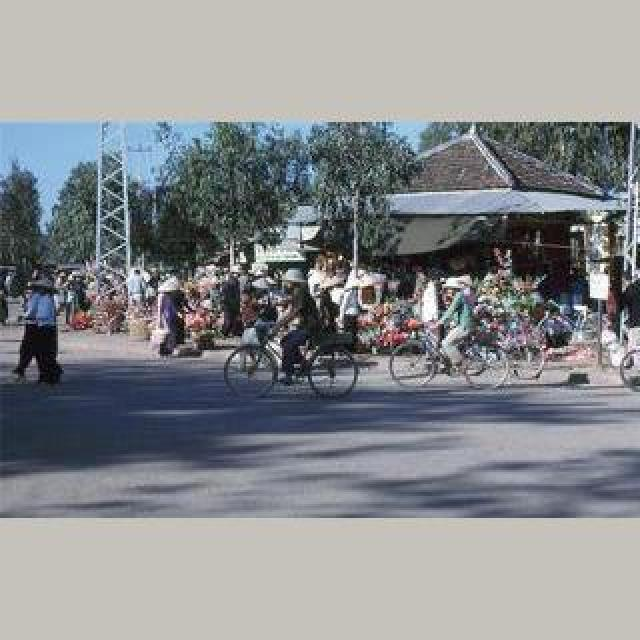MC-Bike: (8, 268, 64, 386), (272, 272, 320, 384), (156, 270, 188, 356), (220, 268, 244, 338), (126, 268, 148, 318)
Person: (226, 320, 360, 402), (390, 322, 514, 392)
